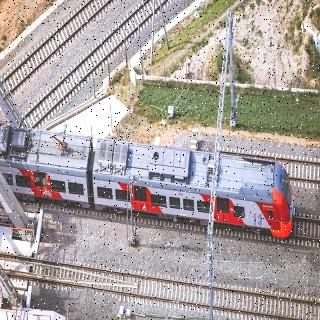poezd: (2, 128, 295, 237)
